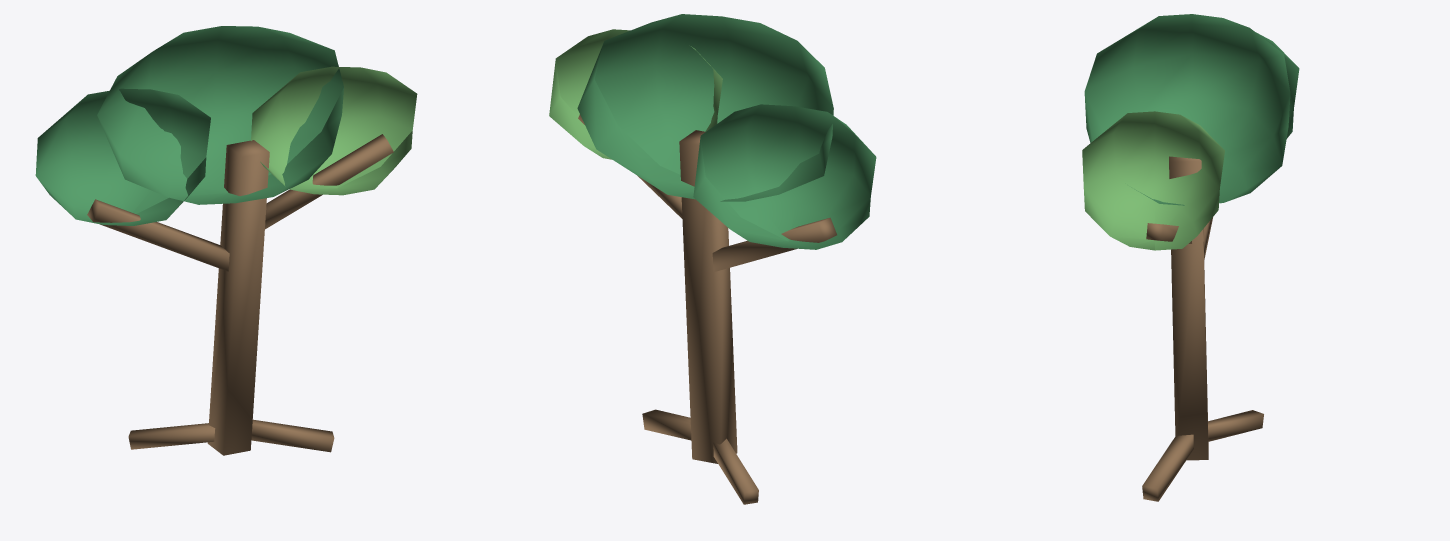
Rendered from foliage.gltf.
3 views of the same model, side by side, from view 1: azimuth 30°, elevation 25°; view 2: azimuth 150°, elevation 25°; view 3: azimuth 270°, elevation 25° (orthographic). The views are drawn at different scales.
Visible parts, largest first — view 1: overlapping canopy core, tapered main trunk, shadow side canopy, sunlit side canopy, left branch, right branch, root flare north, root flare south; view 2: overlapping canopy core, shadow side canopy, tapered main trunk, sunlit side canopy, left branch, root flare south, root flare north; view 3: overlapping canopy core, sunlit side canopy, tapered main trunk, root flare north, root flare south, shadow side canopy, right branch.
Boxes of the visible parts, x1,y1,x2,y2 form: overlapping canopy core: (97,26,343,204); tapered main trunk: (207,140,269,455); shadow side canopy: (35,88,210,225); sunlit side canopy: (251,66,417,195); left branch: (87,199,229,271); right branch: (265,134,393,229); root flare north: (251,419,334,452); root flare south: (128,423,215,449); overlapping canopy core: (577,14,833,201); shadow side canopy: (693,104,876,249); tapered main trunk: (679,130,737,463); sunlit side canopy: (549,29,722,159); left branch: (712,217,836,271); root flare south: (713,438,758,504); root flare north: (642,409,691,440); overlapping canopy core: (1084,14,1290,205); sunlit side canopy: (1082,111,1224,250); tapered main trunk: (1169,156,1208,460); root flare north: (1142,434,1193,501); root flare south: (1208,410,1263,441); shadow side canopy: (1256,32,1299,138); right branch: (1146,223,1191,243).
Bounding box in the file's own units: 2.07 × 2.03 × 1.91.
